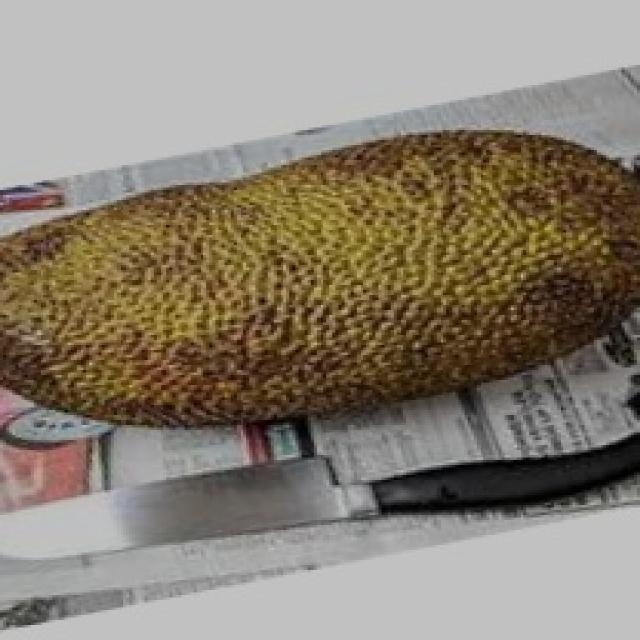Fruit: (224, 92, 640, 437), (0, 152, 406, 470)
